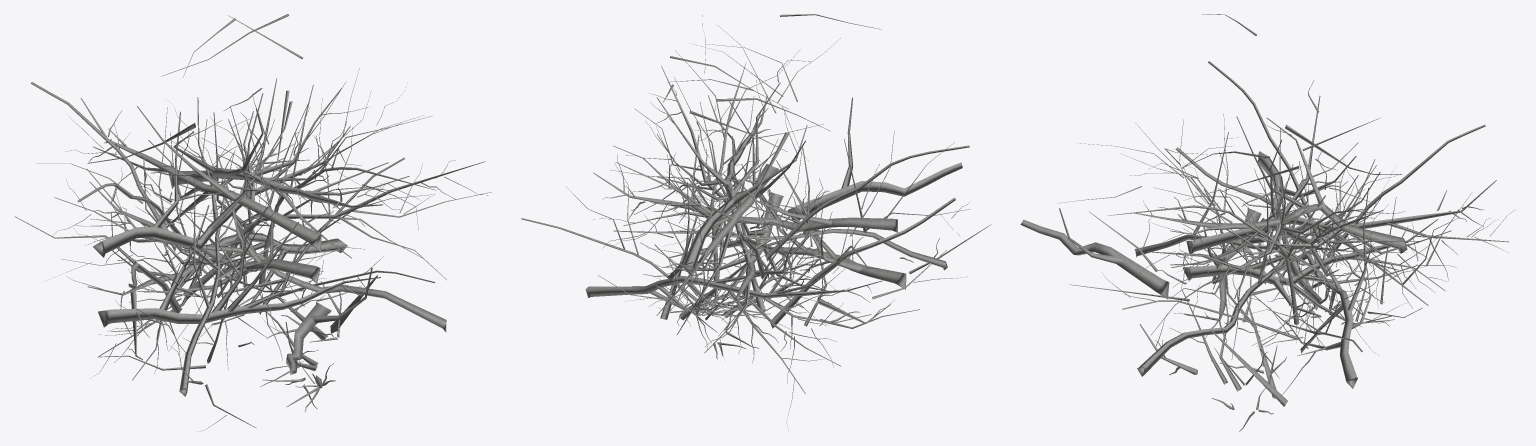
Rendered from beech-detached-limbs.gltf.
3 views of the same model, side by side, from view 1: azimuth 30°, elevation 25°; view 2: azimuth 150°, elevation 25°; view 3: azimuth 270°, elevation 25° (orthographic). The views are drawn at different scales.
Visible parts, largest first — view 1: Maple_detached_limb_7, Maple_detached_limb_6, Maple_detached_limb_3, Maple_detached_limb_8, Maple_detached_limb_1, Maple_detached_limb_4, Maple_detached_limb_2, Maple_detached_limb_5; view 2: Maple_detached_limb_6, Maple_detached_limb_3, Maple_detached_limb_7, Maple_detached_limb_1, Maple_detached_limb_4, Maple_detached_limb_8, Maple_detached_limb_5, Maple_detached_limb_2; view 3: Maple_detached_limb_6, Maple_detached_limb_3, Maple_detached_limb_7, Maple_detached_limb_4, Maple_detached_limb_1, Maple_detached_limb_8, Maple_detached_limb_2, Maple_detached_limb_5.
Part boxes in pixels (x1=…): Maple_detached_limb_7: x1=93, y1=78, x2=383, y2=370; Maple_detached_limb_6: x1=65, y1=98, x2=372, y2=374; Maple_detached_limb_3: x1=68, y1=14, x2=377, y2=411; Maple_detached_limb_8: x1=14, y1=82, x2=491, y2=313; Maple_detached_limb_1: x1=36, y1=81, x2=436, y2=431; Maple_detached_limb_4: x1=123, y1=88, x2=421, y2=359; Maple_detached_limb_2: x1=53, y1=15, x2=446, y2=351; Maple_detached_limb_5: x1=156, y1=68, x2=401, y2=396; Maple_detached_limb_6: x1=602, y1=97, x2=962, y2=360; Maple_detached_limb_3: x1=585, y1=14, x2=882, y2=430; Maple_detached_limb_7: x1=593, y1=101, x2=906, y2=289; Maple_detached_limb_1: x1=521, y1=15, x2=991, y2=328; Maple_detached_limb_4: x1=650, y1=80, x2=913, y2=324; Maple_detached_limb_8: x1=626, y1=25, x2=969, y2=328; Maple_detached_limb_5: x1=659, y1=43, x2=947, y2=336; Maple_detached_limb_2: x1=643, y1=84, x2=837, y2=325; Maple_detached_limb_6: x1=1020, y1=95, x2=1515, y2=333; Maple_detached_limb_3: x1=1139, y1=14, x2=1395, y2=431; Maple_detached_limb_7: x1=1122, y1=140, x2=1419, y2=343; Maple_detached_limb_4: x1=1134, y1=116, x2=1407, y2=299; Maple_detached_limb_1: x1=1069, y1=113, x2=1472, y2=353; Maple_detached_limb_8: x1=1058, y1=61, x2=1485, y2=359; Maple_detached_limb_2: x1=1137, y1=117, x2=1404, y2=385; Maple_detached_limb_5: x1=1134, y1=132, x2=1406, y2=350.
Bounding box in the file's own units: 499 × 446 × 554.
Materials: 1 (1 with a texture image).
